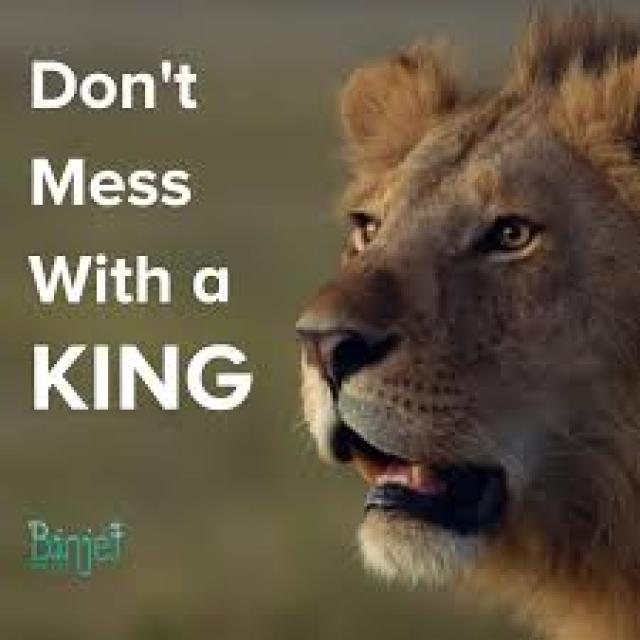Lion: (296, 6, 637, 637)
